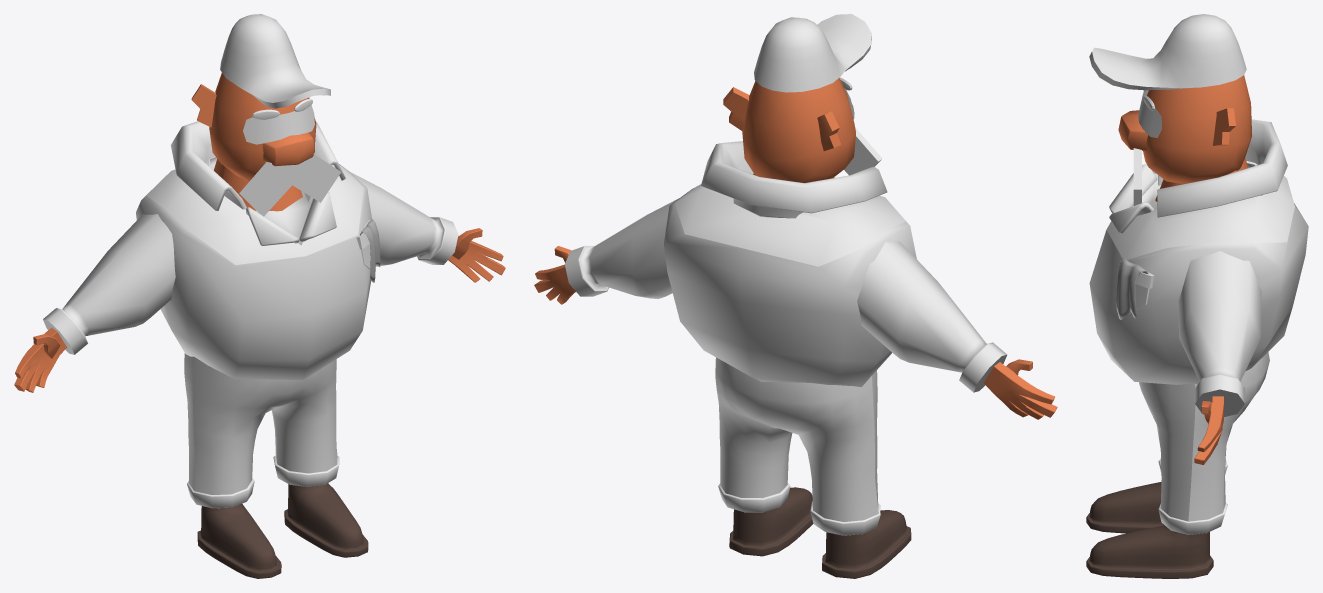
The model's file is Character_Export.fbx.
3 renders of one model, left to right at view 1: azimuth 30°, elevation 25°; view 2: azimuth 150°, elevation 25°; view 3: azimuth 270°, elevation 25°, orthographic. The views are drawn at different scales.
Visible parts, largest first — view 1: BODY, PANTS, ARMS, SHOES, HAT, HEAD, KRAAGHIGHER.001, HANDS, MUSTACHE, KRAAGLOWER.001, EYEPLANE, NOSE (+3 smaller); view 2: BODY, PANTS, ARMS, HEAD, SHOES, HAT, KRAAGHIGHER.001, HANDS, EARS, MUSTACHE; view 3: BODY, ARMS, PANTS, HEAD, SHOES, HAT, KRAAGHIGHER.001, KRAAGLOWER.001, HANDS, DOEK, NOSE, EARS (+3 smaller).
Part boxes in pixels (x1=…): BODY: x1=136, y1=156, x2=371, y2=379; PANTS: x1=184, y1=353, x2=339, y2=508; ARMS: x1=43, y1=172, x2=458, y2=354; SHOES: x1=197, y1=483, x2=368, y2=578; HAT: x1=220, y1=14, x2=330, y2=108; HEAD: x1=209, y1=73, x2=316, y2=181; KRAAGHIGHER.001: x1=170, y1=121, x2=345, y2=210; HANDS: x1=14, y1=228, x2=505, y2=392; MUSTACHE: x1=239, y1=154, x2=341, y2=216; KRAAGLOWER.001: x1=246, y1=192, x2=336, y2=245; EYEPLANE: x1=243, y1=105, x2=314, y2=144; NOSE: x1=262, y1=132, x2=314, y2=166; BODY: x1=664, y1=184, x2=916, y2=386; PANTS: x1=715, y1=357, x2=880, y2=535; ARMS: x1=564, y1=198, x2=1007, y2=392; HEAD: x1=742, y1=78, x2=855, y2=182; SHOES: x1=729, y1=487, x2=911, y2=578; HAT: x1=754, y1=14, x2=871, y2=92; KRAAGHIGHER.001: x1=701, y1=141, x2=887, y2=218; HANDS: x1=534, y1=246, x2=1057, y2=419; EARS: x1=723, y1=87, x2=840, y2=150; MUSTACHE: x1=844, y1=127, x2=882, y2=175; BODY: x1=1089, y1=161, x2=1308, y2=384; ARMS: x1=1178, y1=251, x2=1261, y2=416; PANTS: x1=1139, y1=352, x2=1269, y2=534; HEAD: x1=1143, y1=75, x2=1252, y2=183; SHOES: x1=1086, y1=482, x2=1213, y2=578; HAT: x1=1089, y1=14, x2=1246, y2=90; KRAAGHIGHER.001: x1=1157, y1=119, x2=1287, y2=217; KRAAGLOWER.001: x1=1109, y1=164, x2=1157, y2=233; HANDS: x1=1194, y1=396, x2=1223, y2=464; DOEK: x1=1116, y1=258, x2=1148, y2=319; NOSE: x1=1118, y1=110, x2=1147, y2=150; EARS: x1=1213, y1=108, x2=1235, y2=145.
Bounding box in the file's own units: 796 × 792 × 302.
